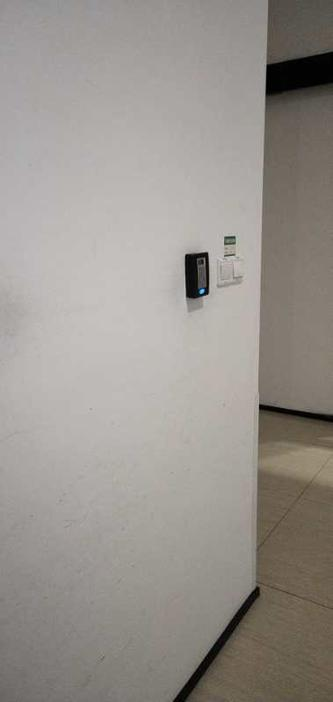switch: (223, 259, 253, 285)
